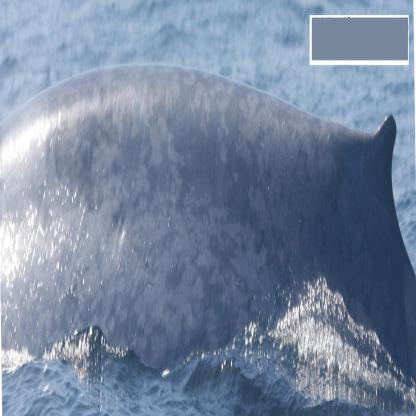dolphin-whale: (0, 69, 416, 385)
